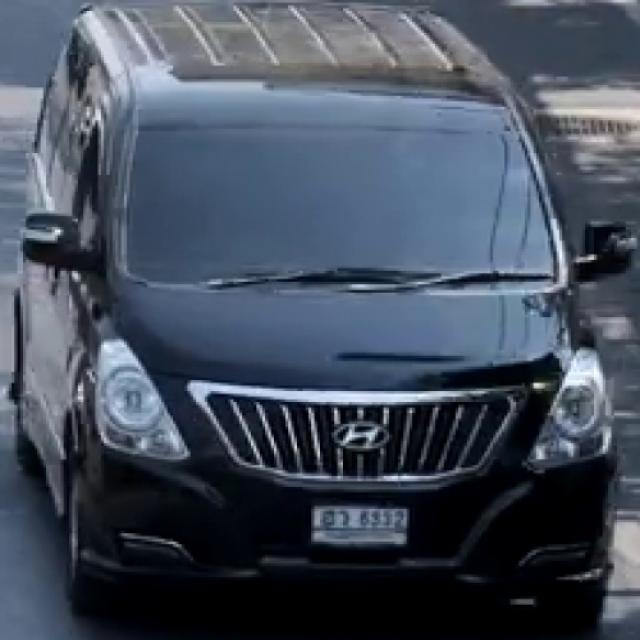plate: (312, 504, 410, 546)
